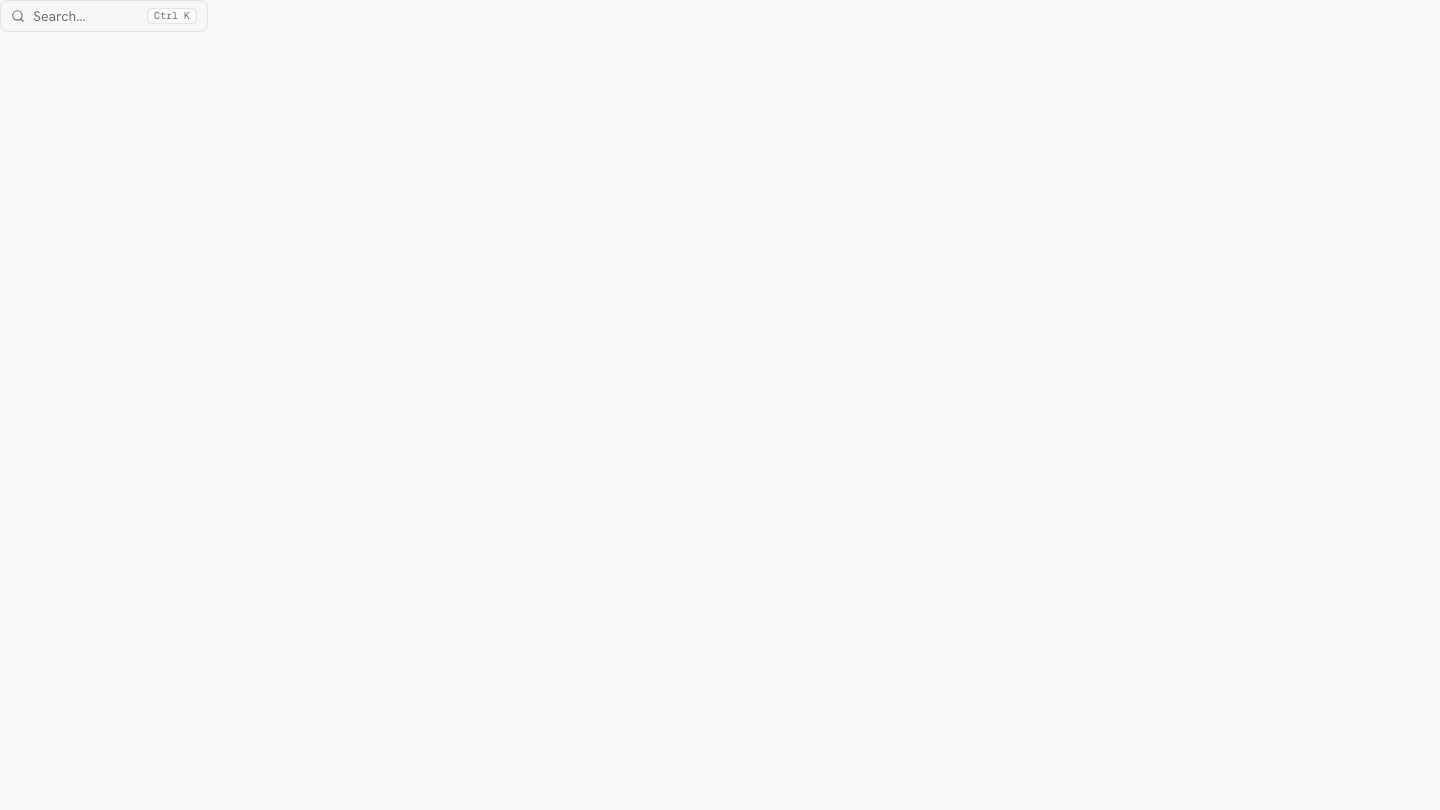
Scenario: CommandPalette › opens with every entry grouped, with a count per group and a total
Click the button with aria-label "Open command palette".
click(104, 16)  # box [0,0,208,32]
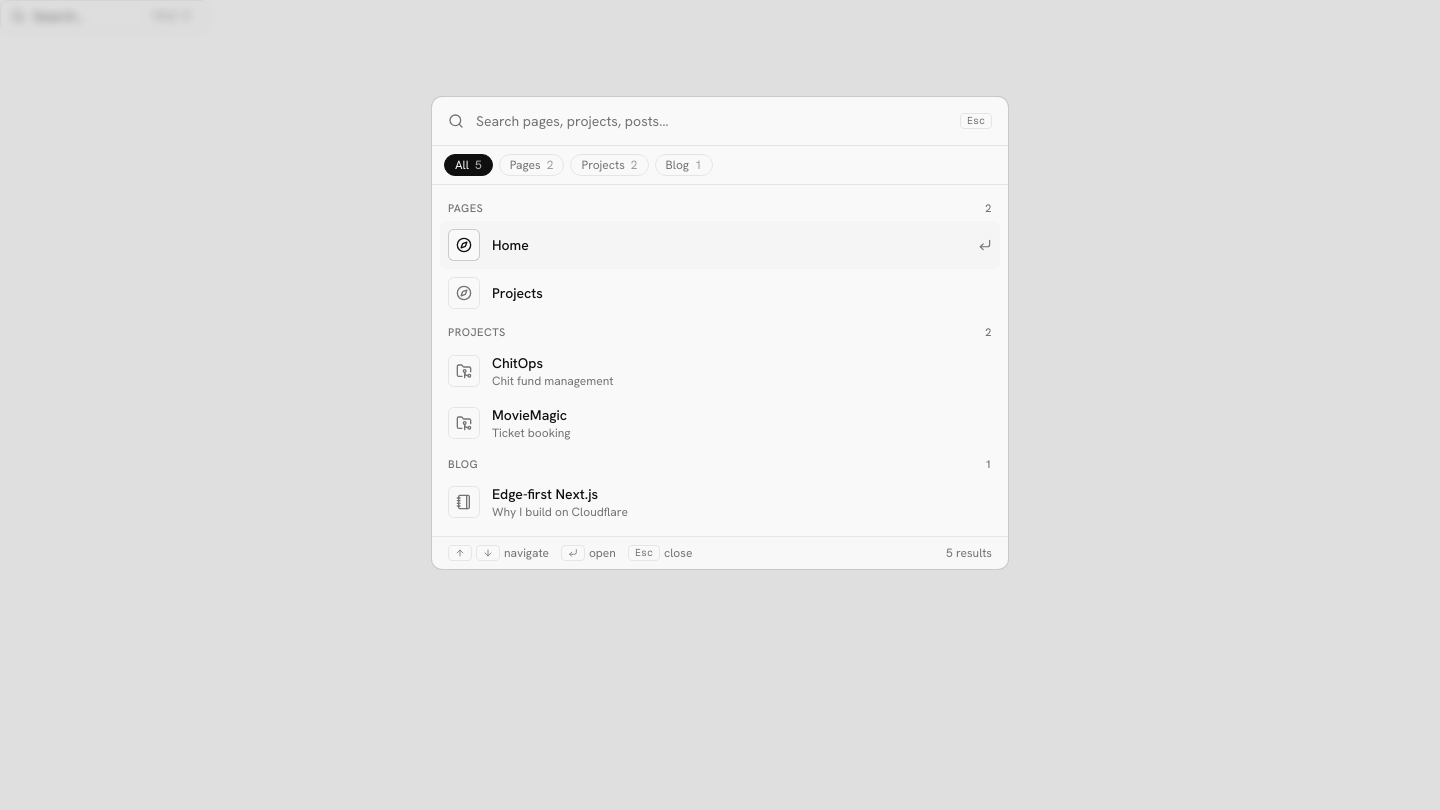
Expected: the number of options is 5, [440,221,1000,269]; [440,269,1000,317]; [440,345,1000,397]; [440,397,1000,449]; [440,476,1000,528]
Expected: the element "Pages" is shown, [440,193,1000,317]
Expected: the element "Projects" is shown, [440,317,1000,449]
